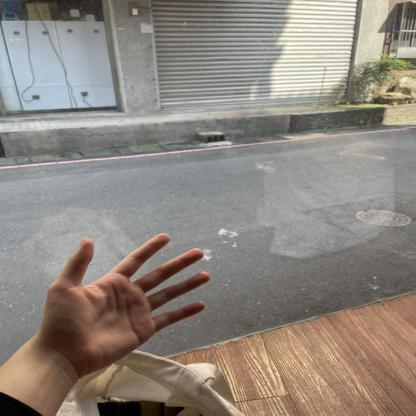bare_hand: (28, 223, 217, 382)
